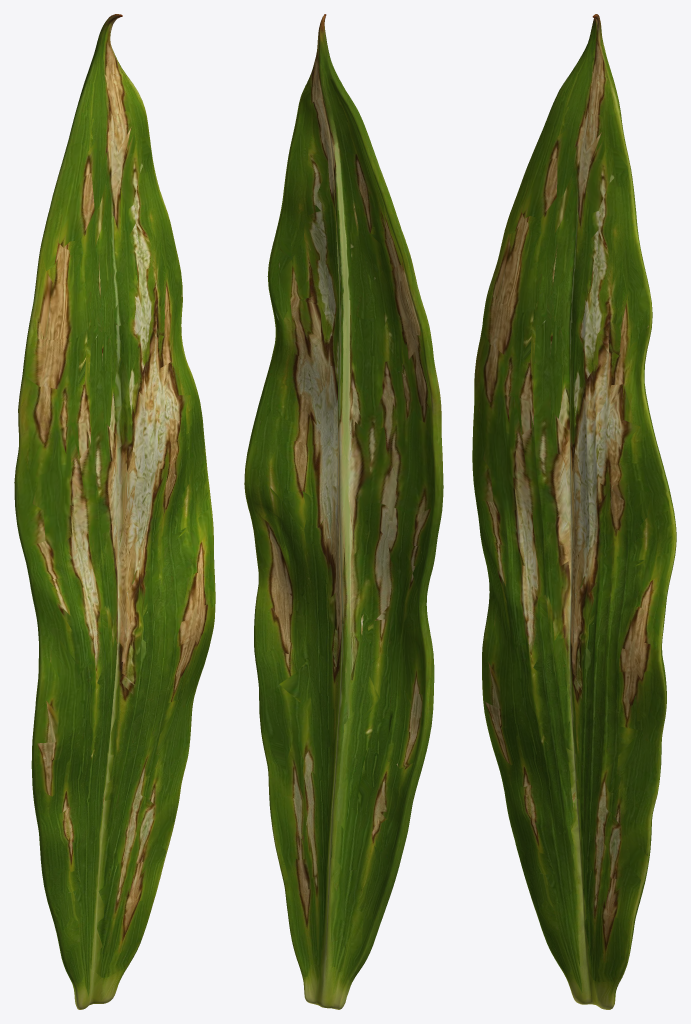
File: wheat_leaf_blight.glb
3 renders of one model, left to right at view 1: azimuth 30°, elevation 25°; view 2: azimuth 150°, elevation 25°; view 3: azimuth 330°, elevation 25°, orthographic. The views are drawn at different scales.
Parts seen in each view (by area): view 1: wheat_leaf_blight; view 2: wheat_leaf_blight; view 3: wheat_leaf_blight.
Boxes of the visible parts, x1,y1,x2,y2 form: wheat_leaf_blight: [14, 14, 215, 1009]; wheat_leaf_blight: [244, 14, 443, 1009]; wheat_leaf_blight: [472, 14, 676, 1009].
Bounding box in the file's own units: 0.2082 × 1 × 0.0666.
1 material, 1 textured.
